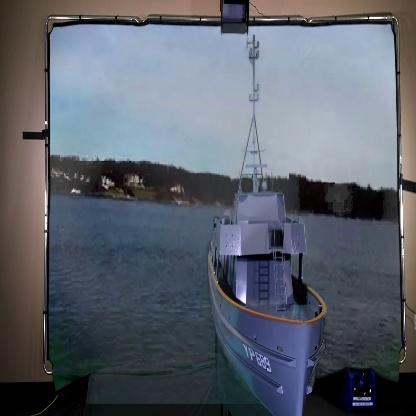YP689: (209, 51, 328, 416)
